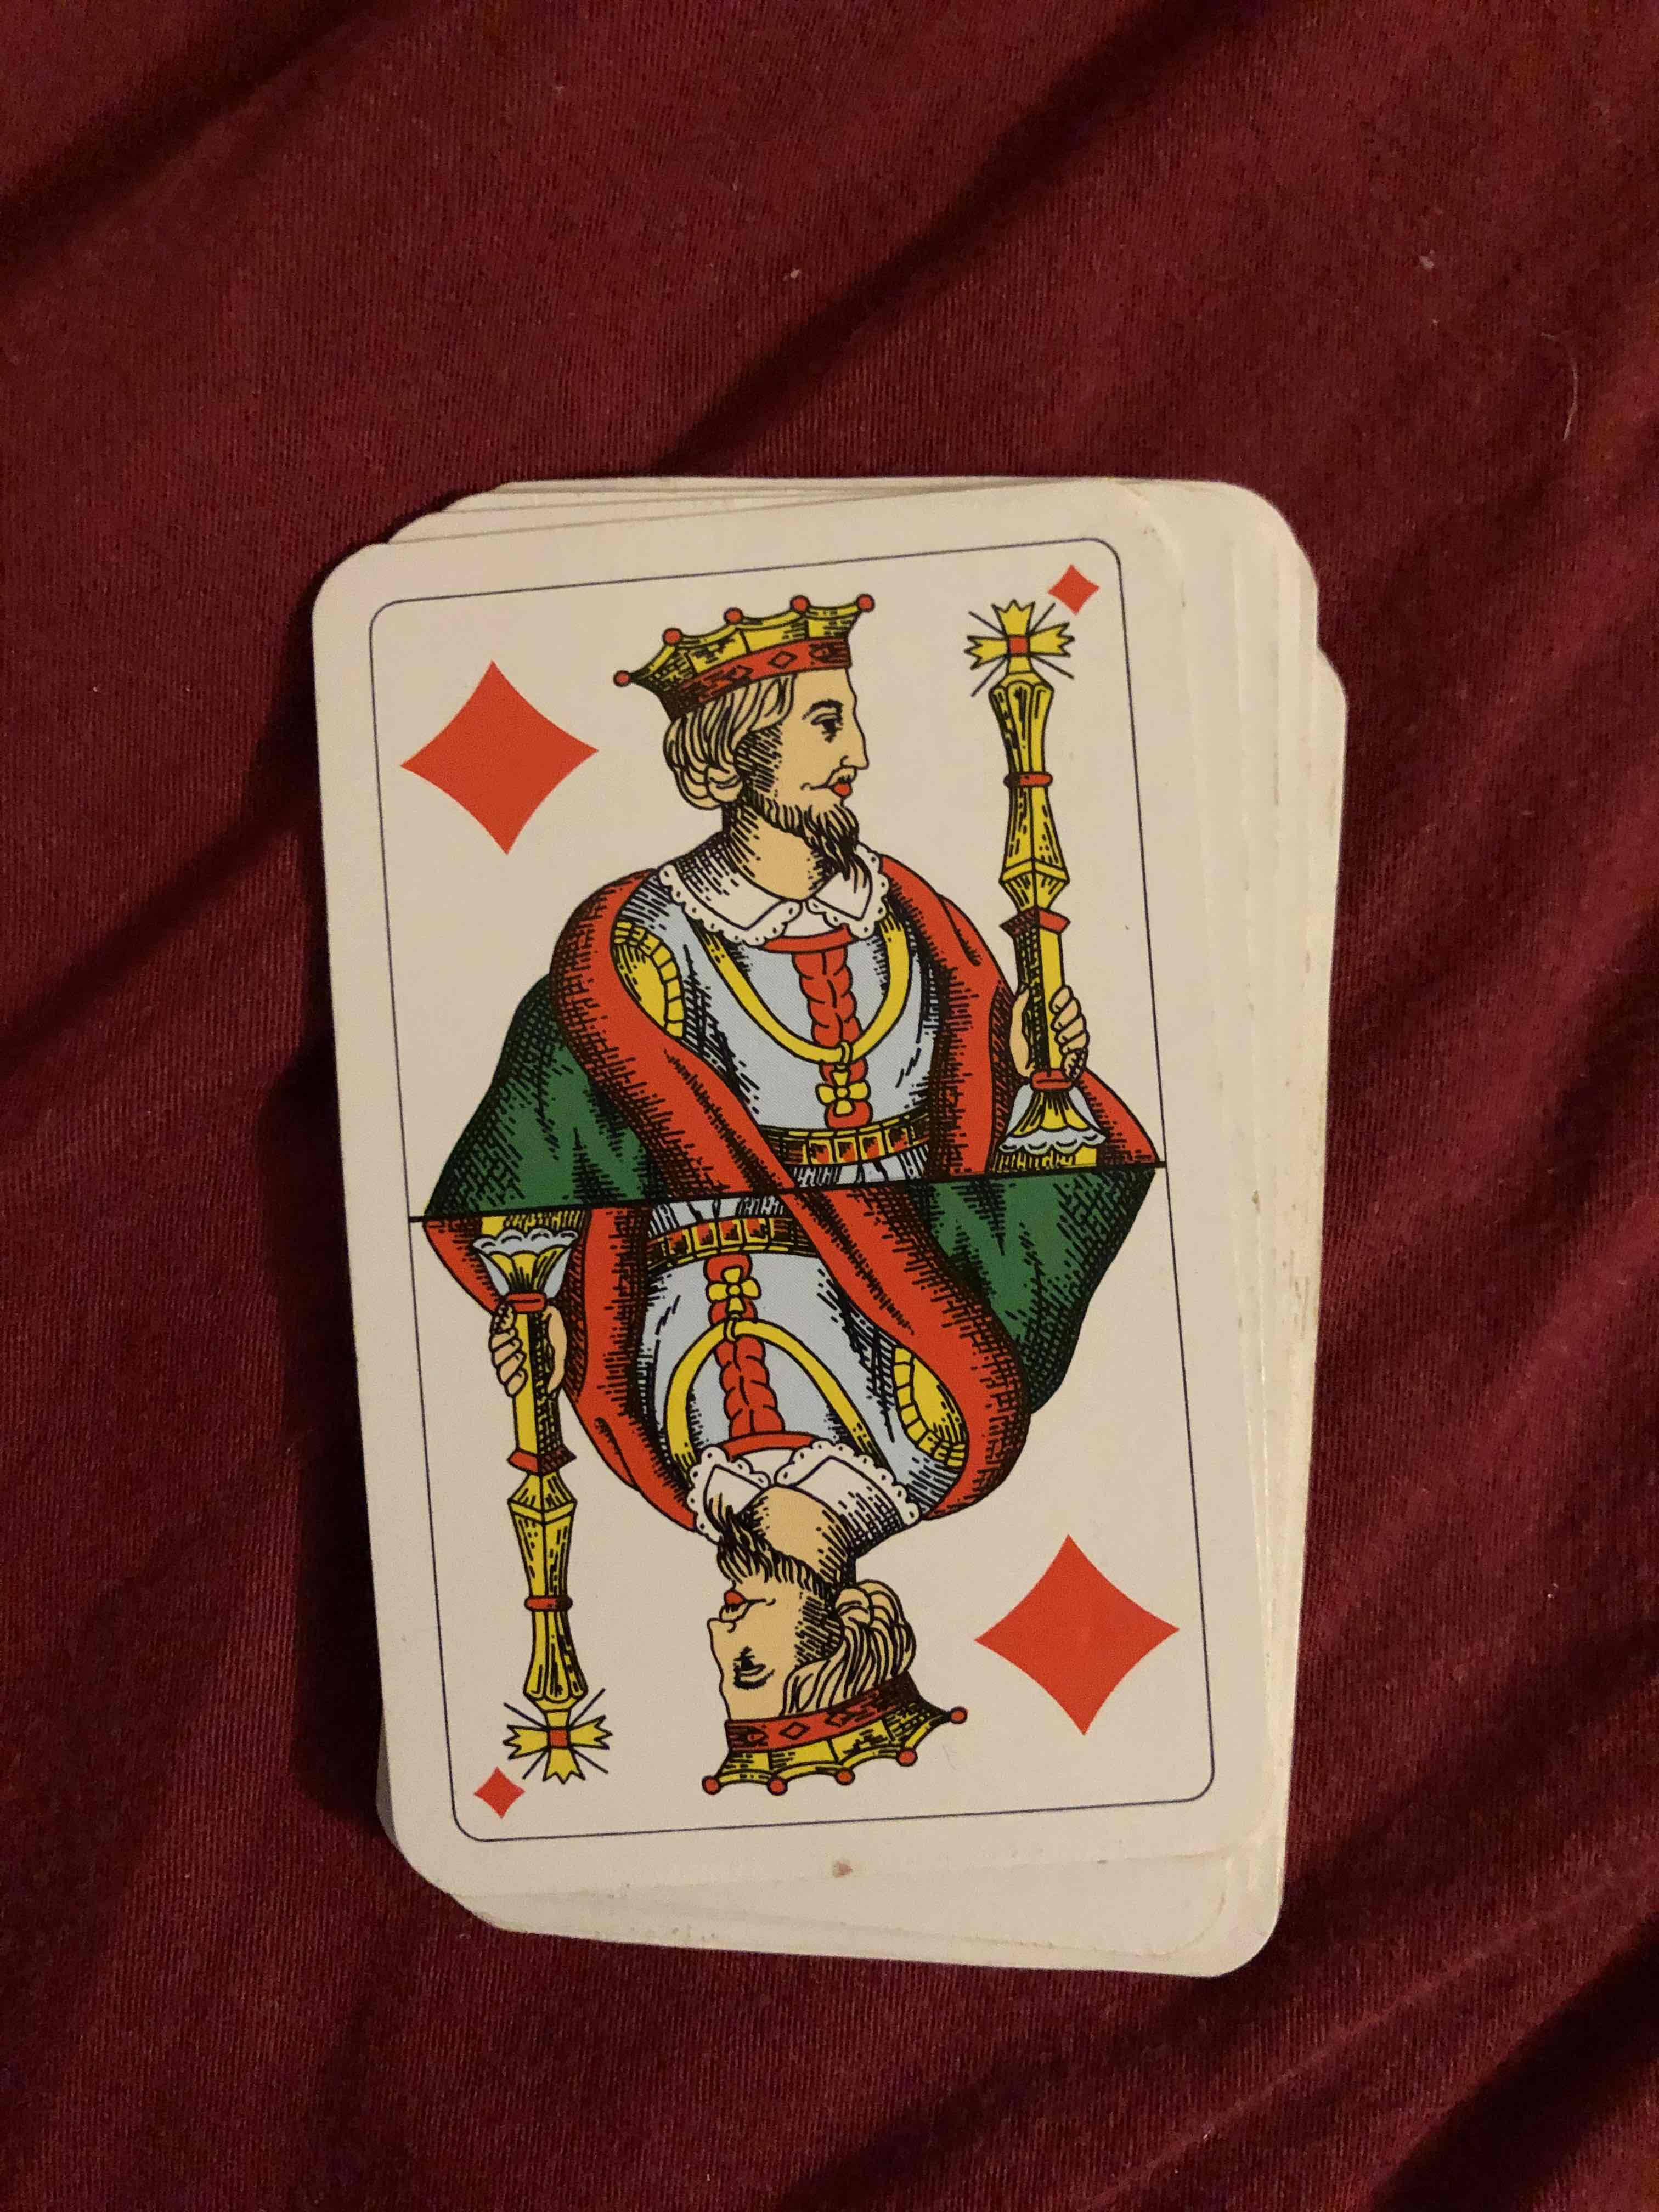diamondKing: (314, 531, 1302, 1851)
